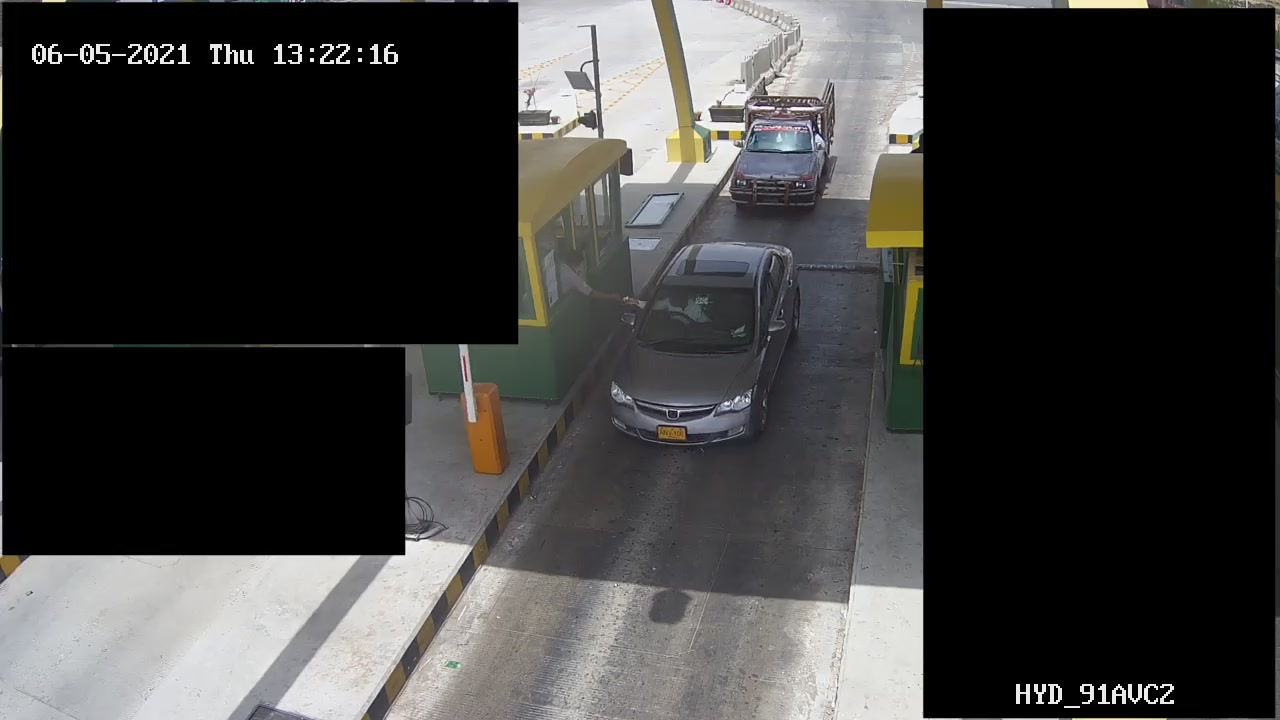F1: (603, 239, 807, 456), (727, 67, 839, 212)
